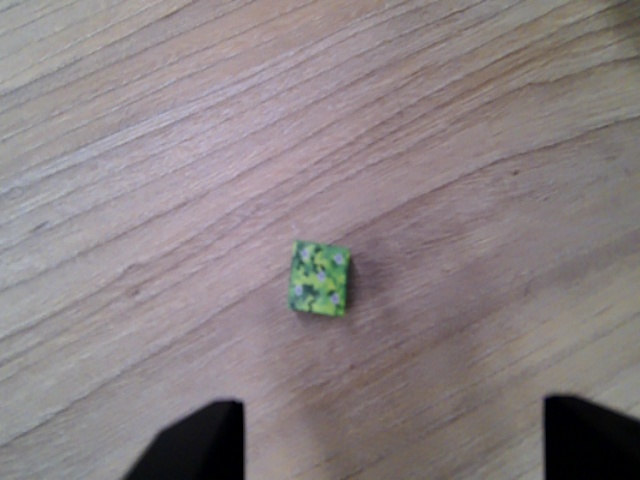grass: (286, 234, 352, 322)
